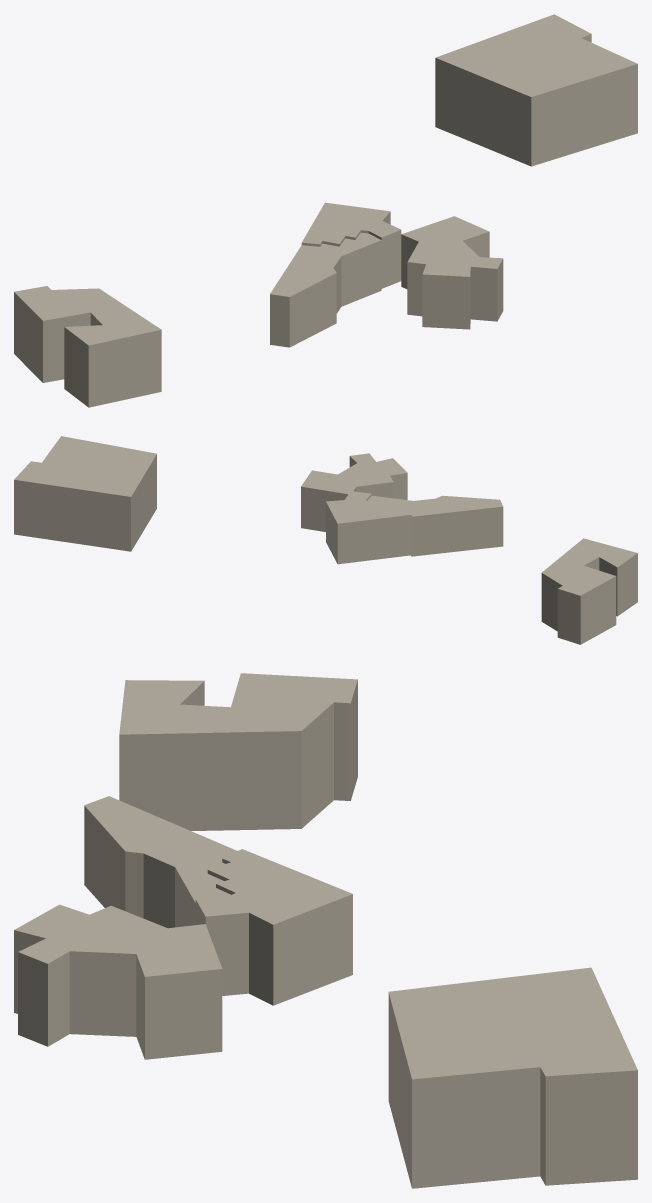
The model's file is bormla_63_26_far.glb.
The picture shows the model from 3 angles, top to bottom: view 1: azimuth 30°, elevation 25°; view 2: azimuth 150°, elevation 25°; view 3: azimuth 270°, elevation 25°; orthographic projection. The views are drawn at different scales.
Visible parts, largest first — view 1: geometry_0; view 2: geometry_0; view 3: geometry_0.
Boxes of the visible parts, <box> form: geometry_0: <box>14,14,637,407</box>; geometry_0: <box>14,436,637,644</box>; geometry_0: <box>14,673,637,1188</box>.
Bounding box in the file's own units: 147 × 26.15 × 77.6.
